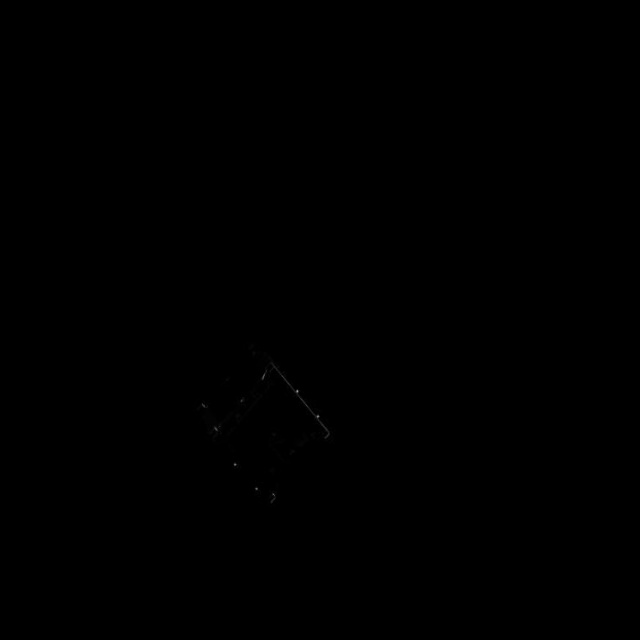medium_debris: (186, 349, 362, 515)
